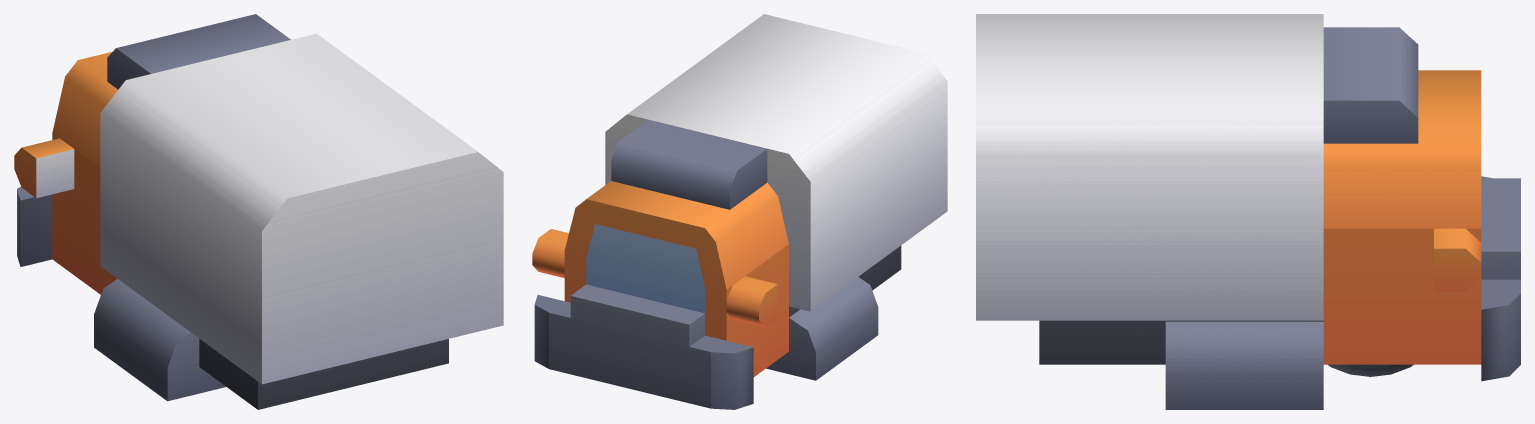
File: vehicle-truck.glb
3 views of the same model, side by side, from view 1: azimuth 30°, elevation 25°; view 2: azimuth 150°, elevation 25°; view 3: azimuth 270°, elevation 25° (orthographic). The views are drawn at different scales.
Parts seen in each view (by area): view 1: vehicle-truck; view 2: vehicle-truck; view 3: vehicle-truck, vehicle-truck.003.
Part boxes in pixels (box(x1,y1,x2,y2)): vehicle-truck: box(14, 14, 503, 409); vehicle-truck: box(532, 14, 947, 409); vehicle-truck: box(976, 14, 1520, 409); vehicle-truck.003: box(1328, 364, 1413, 376).
Size of the model in its own units: 1.57 by 1.57 by 2.59.
1 material, 1 textured.
